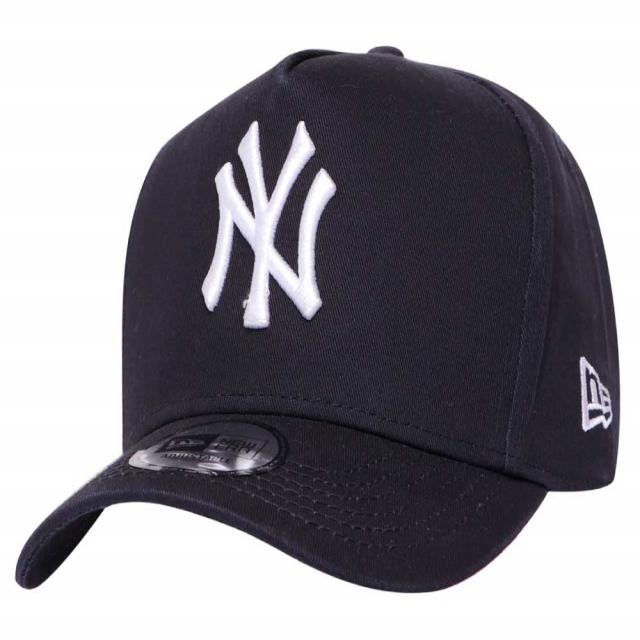mask: (12, 41, 626, 596)
